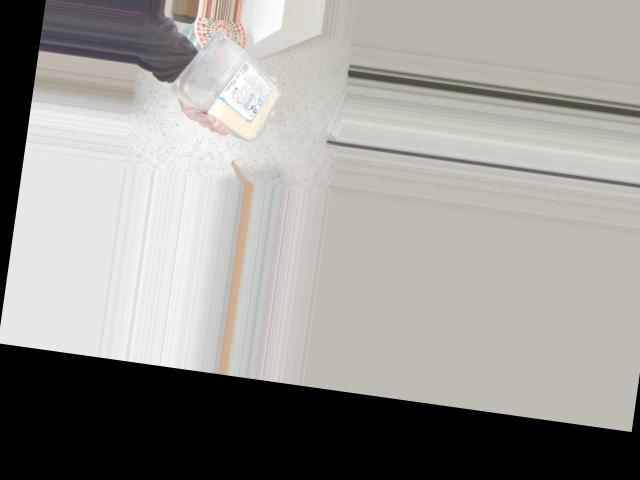cheese: (191, 23, 292, 138)
